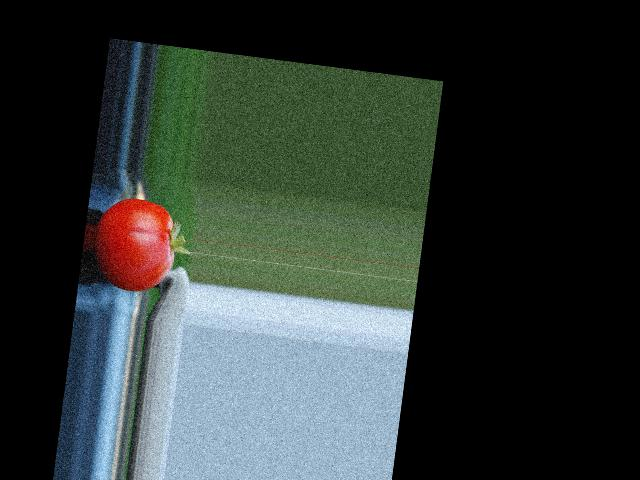tomato: (89, 193, 181, 295)
